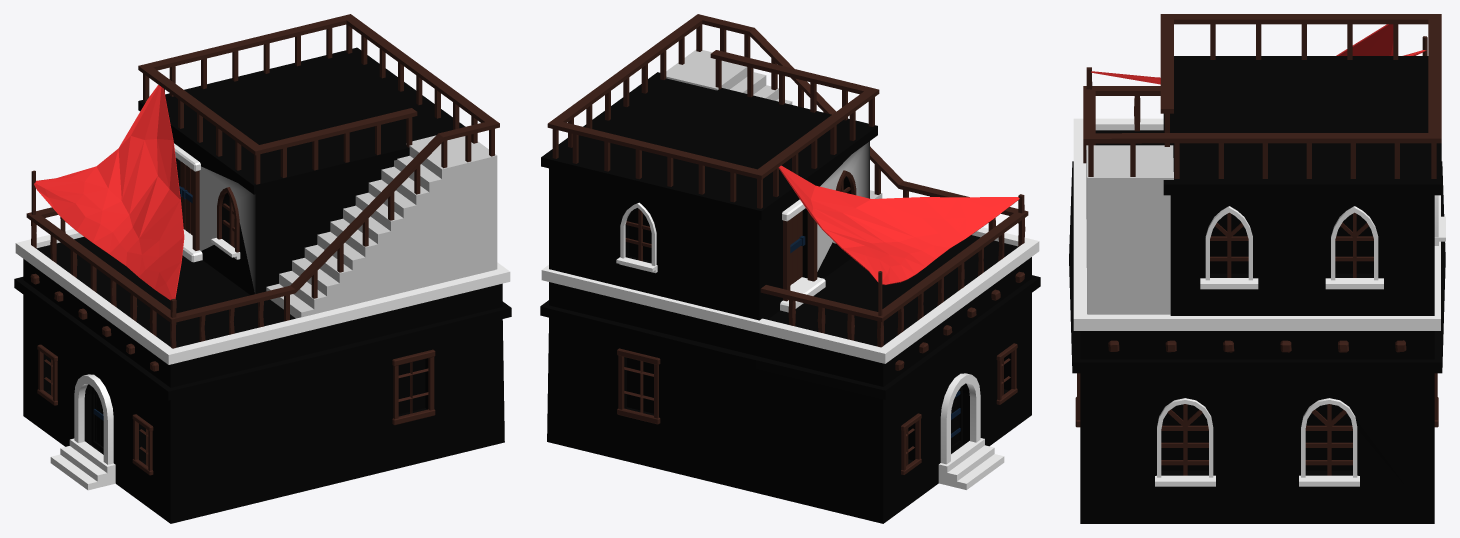
File: civilian_house_32_d.FBX
The picture shows the model from 3 angles, left to right: view 1: azimuth 30°, elevation 25°; view 2: azimuth 150°, elevation 25°; view 3: azimuth 270°, elevation 25°; orthographic projection. The views are drawn at different scales.
Visible parts, largest first — view 1: civilian_house_32_d; view 2: civilian_house_32_d; view 3: civilian_house_32_d.
Boxes of the visible parts, x1=… form: civilian_house_32_d: x1=14, y1=14, x2=511, y2=523; civilian_house_32_d: x1=540, y1=14, x2=1040, y2=523; civilian_house_32_d: x1=1069, y1=14, x2=1445, y2=523.
Bounding box in the file's own units: 1157 × 955 × 851.
